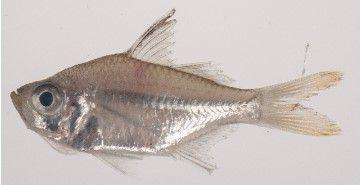Glass Perchlet: (11, 2, 351, 181)
